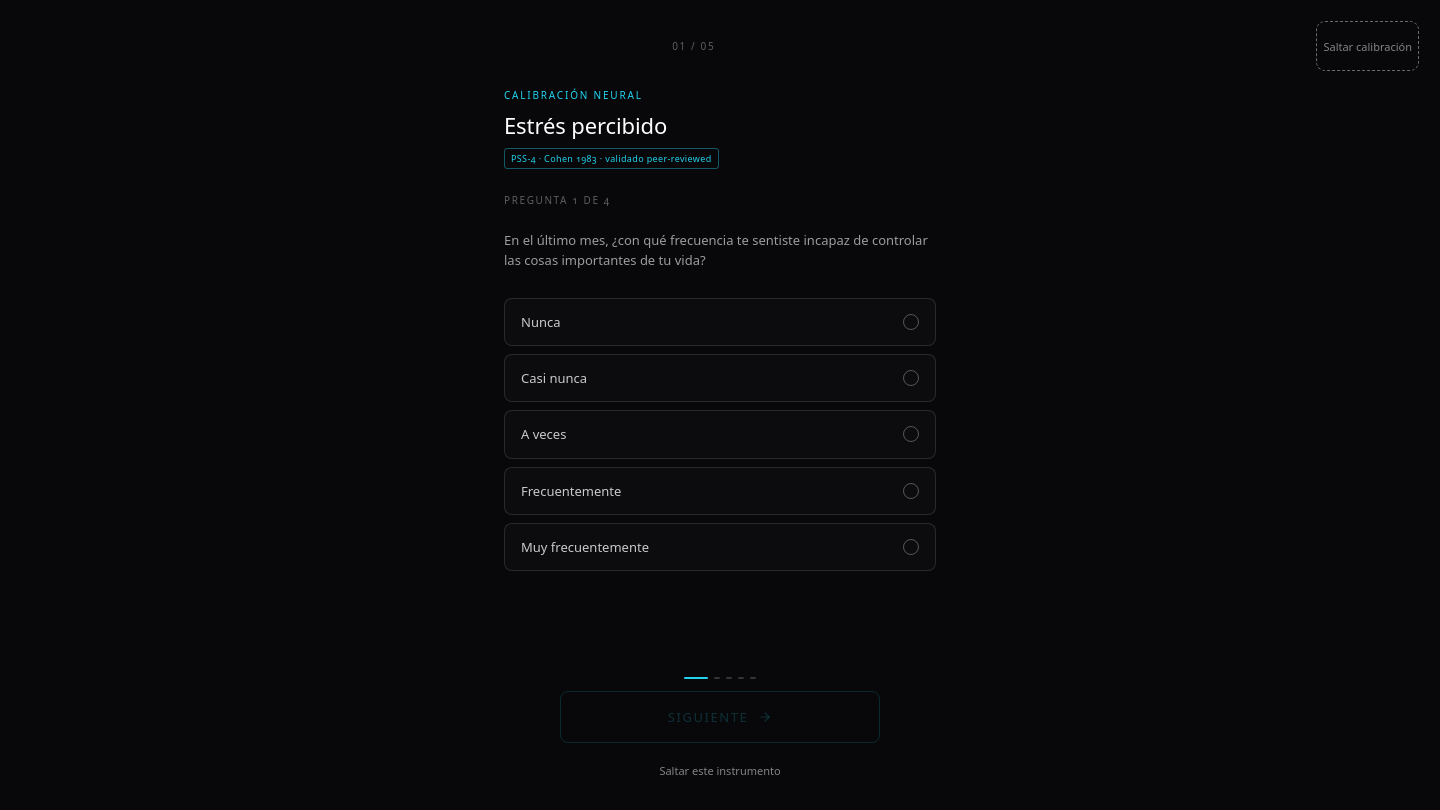
it: NeuralCalibrationV2 — navigation + a11y › back button funciona desde step 2
The image size is (1440, 810).
What coordinates should you click on to do the following:
click the radio button with test id "pss4-opt-0-2"
I would click on:
 (544, 434)
Its box is x1=504 y1=410 x2=936 y2=459.
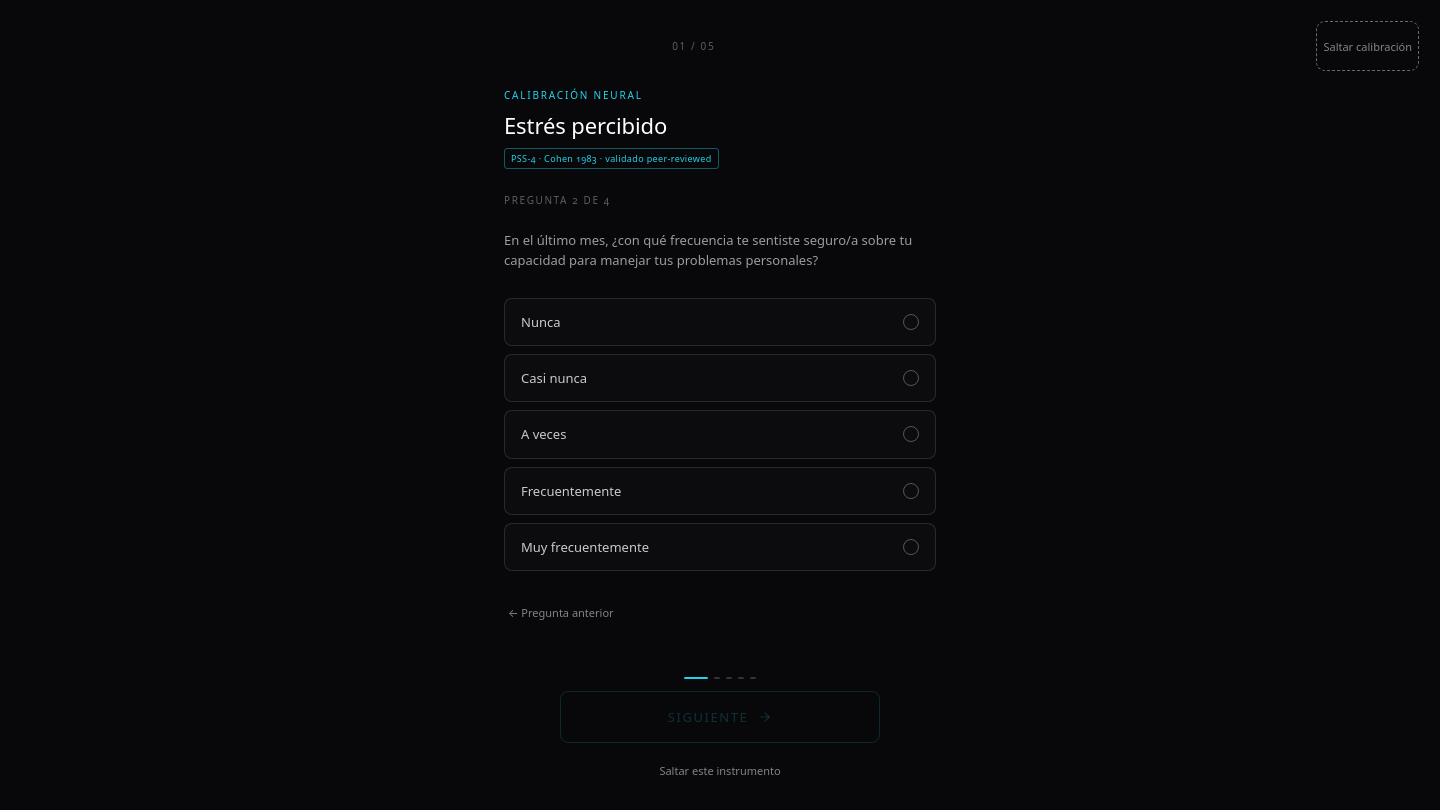
What coordinates should you click on to do the following:
click the radio button labelled "A veces"
I would click on:
 (544, 434)
Its box is x1=504 y1=410 x2=936 y2=459.
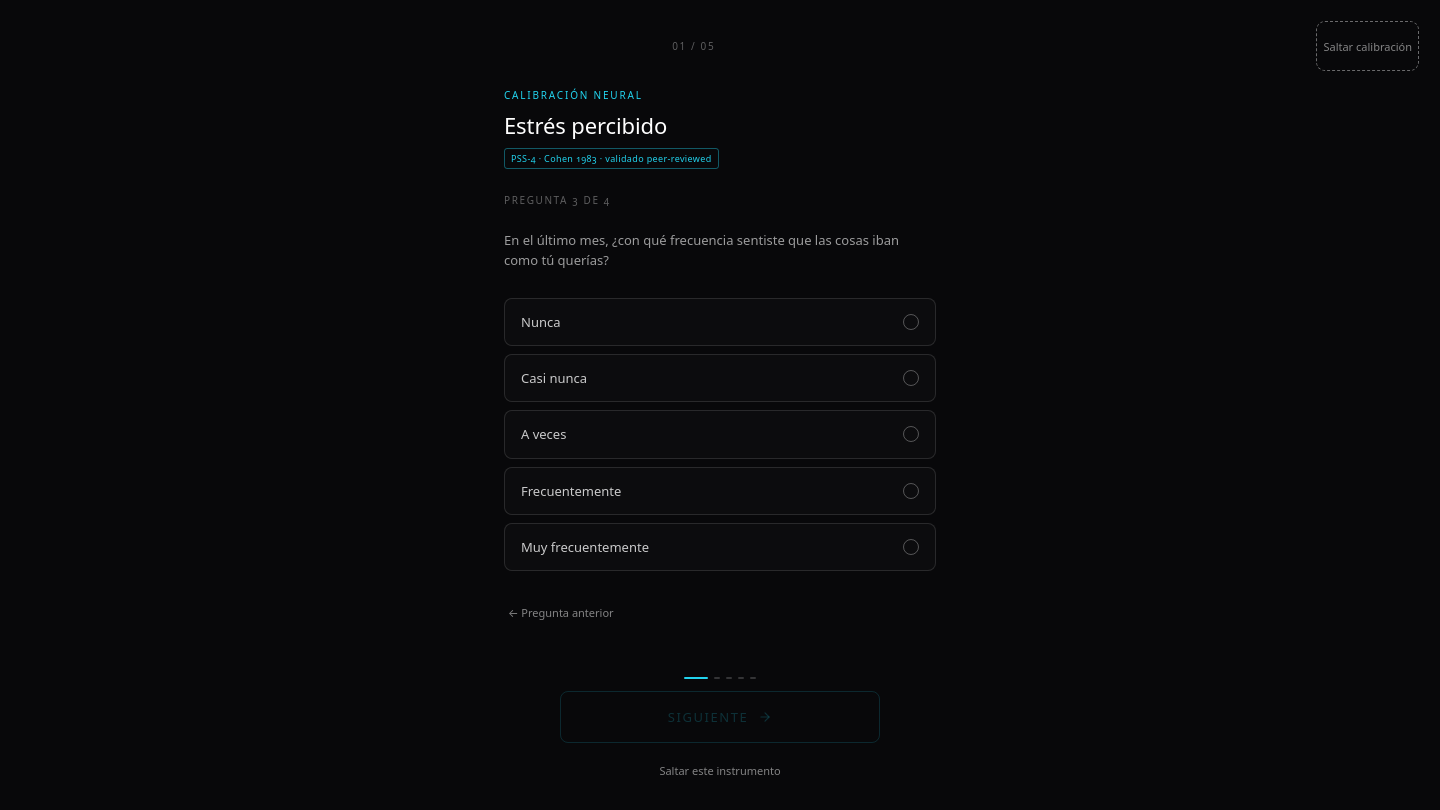
What coordinates should you click on to do the following:
click the radio button labelled "A veces"
I would click on:
 (544, 434)
Its box is x1=504 y1=410 x2=936 y2=459.
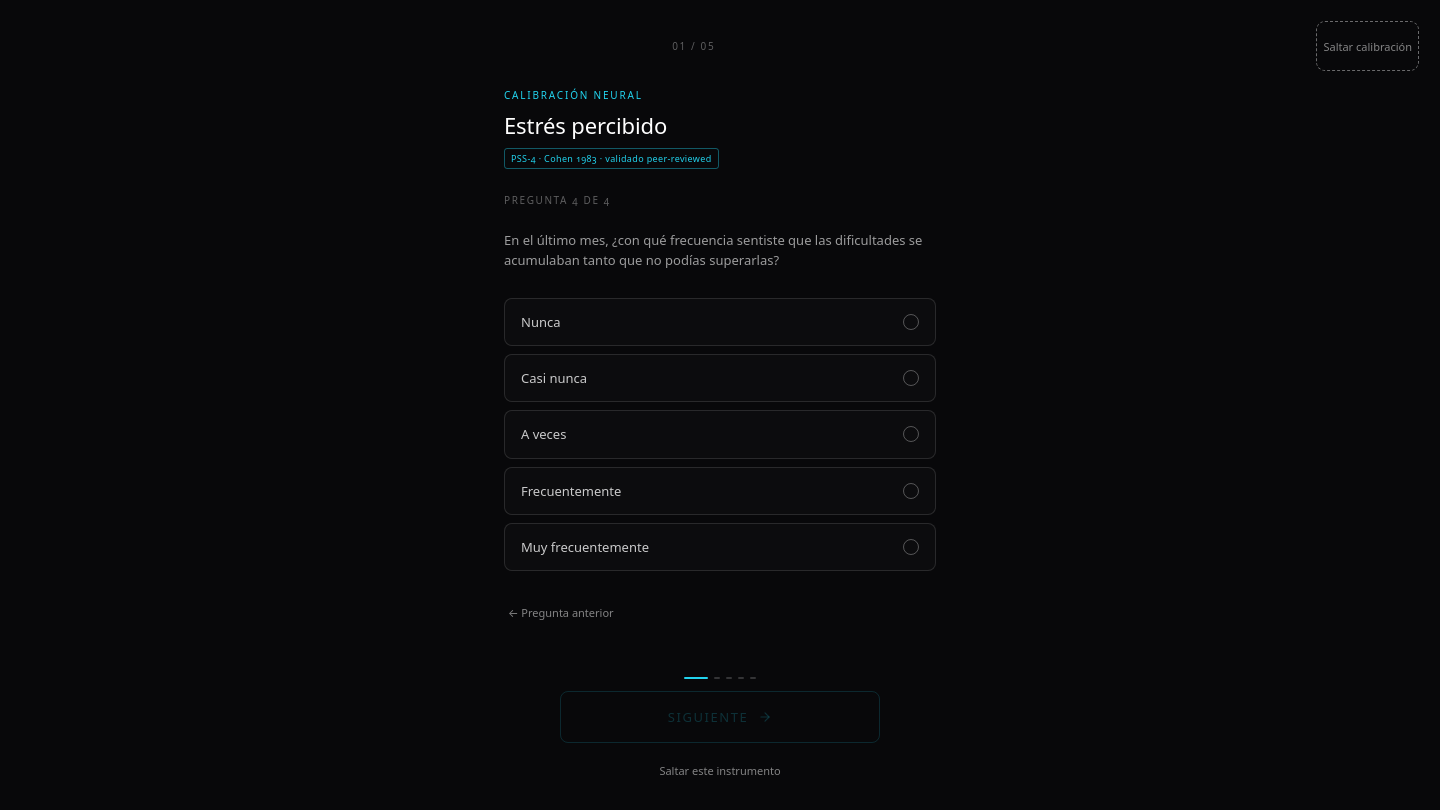
What coordinates should you click on to do the following:
click the radio button labelled "A veces"
I would click on:
 (544, 434)
Its box is x1=504 y1=410 x2=936 y2=459.
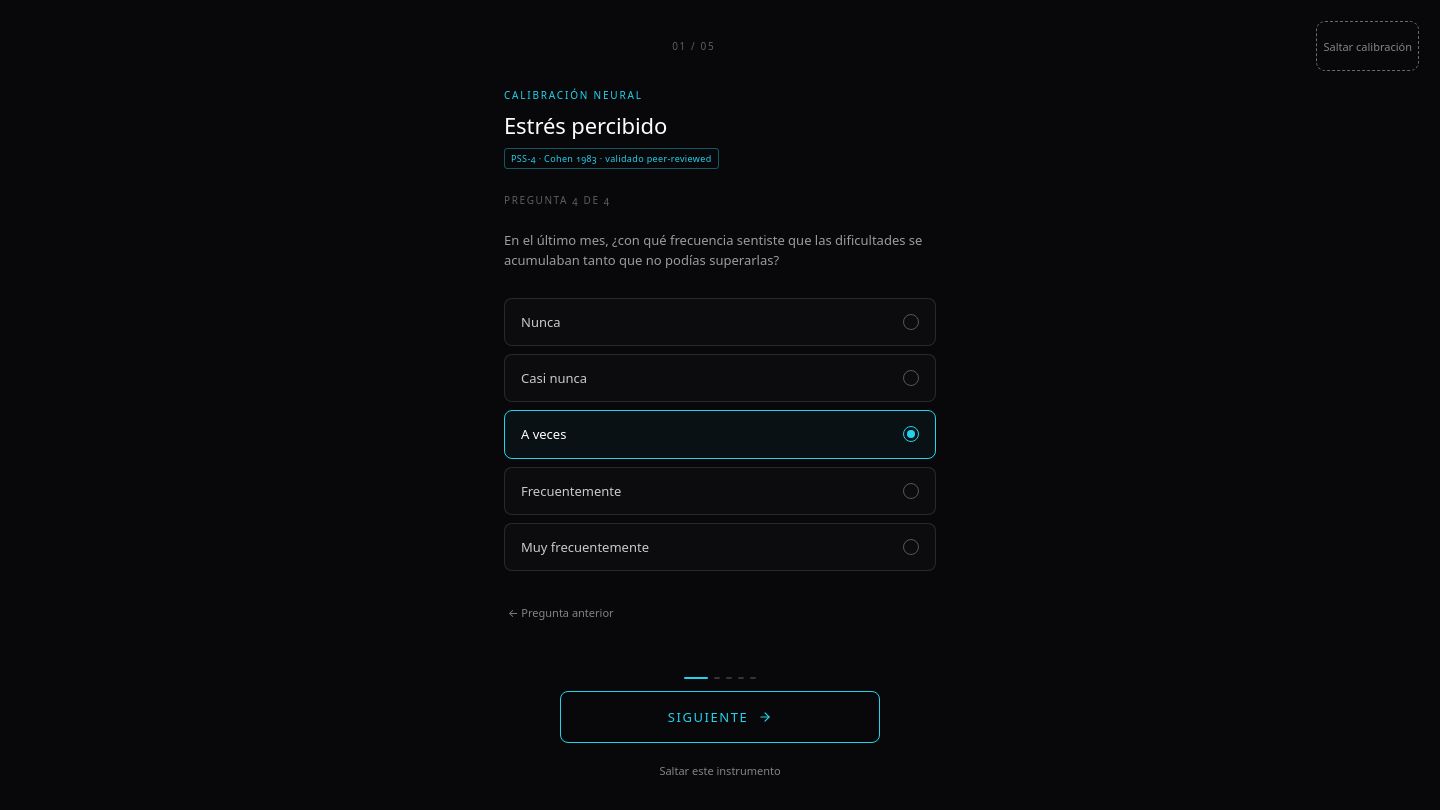
What coordinates should you click on to do the following:
click the button with test id "calibration-cta"
I would click on:
 (720, 717)
Its box is x1=560 y1=691 x2=880 y2=743.
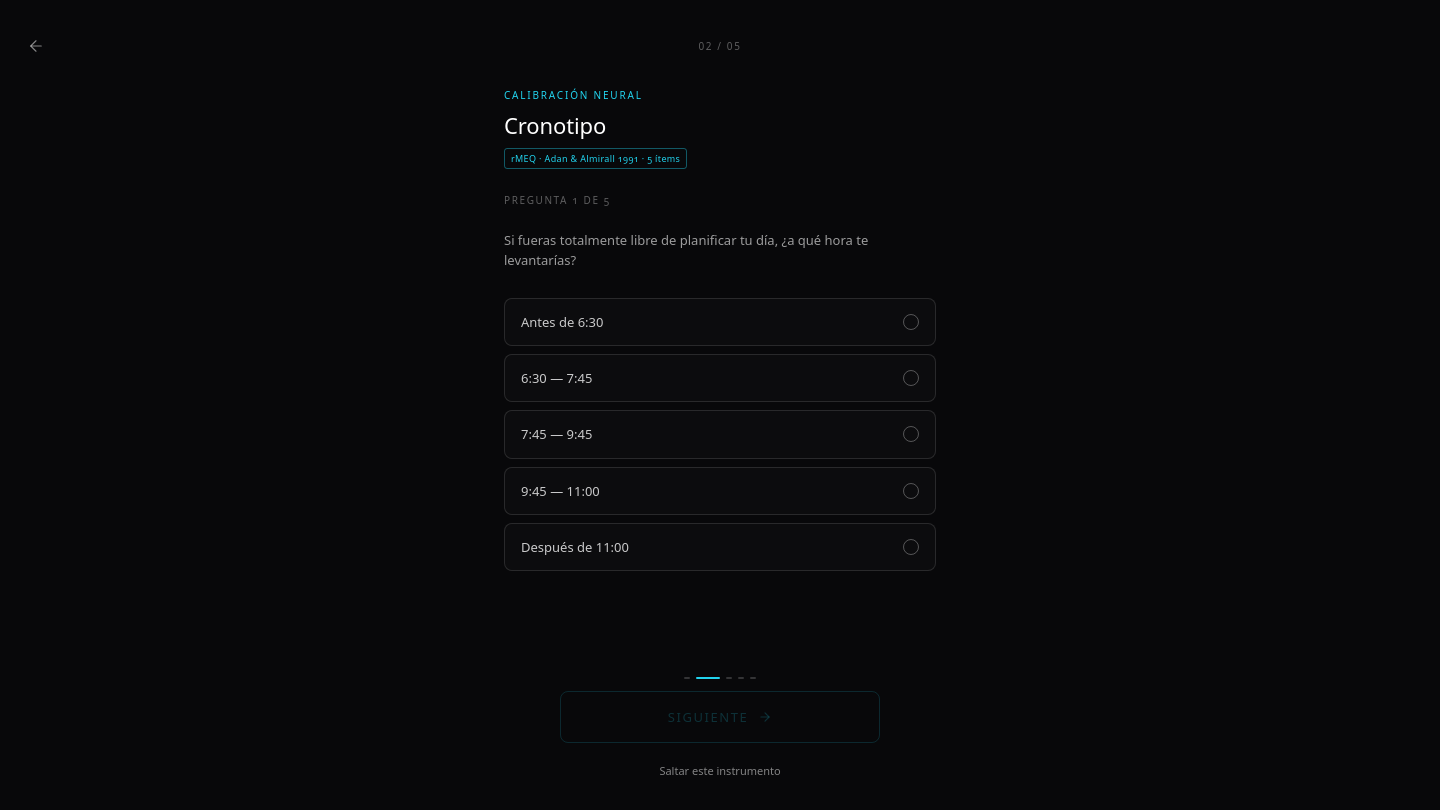
Expected: the text with test id "calibration-step-counter" reads "02 / 05", x1=698 y1=39 x2=742 y2=53
What coordinates should you click on to do the following:
click the button with test id "calibration-back"
I would click on:
 (36, 46)
Its box is x1=14 y1=24 x2=58 y2=68.
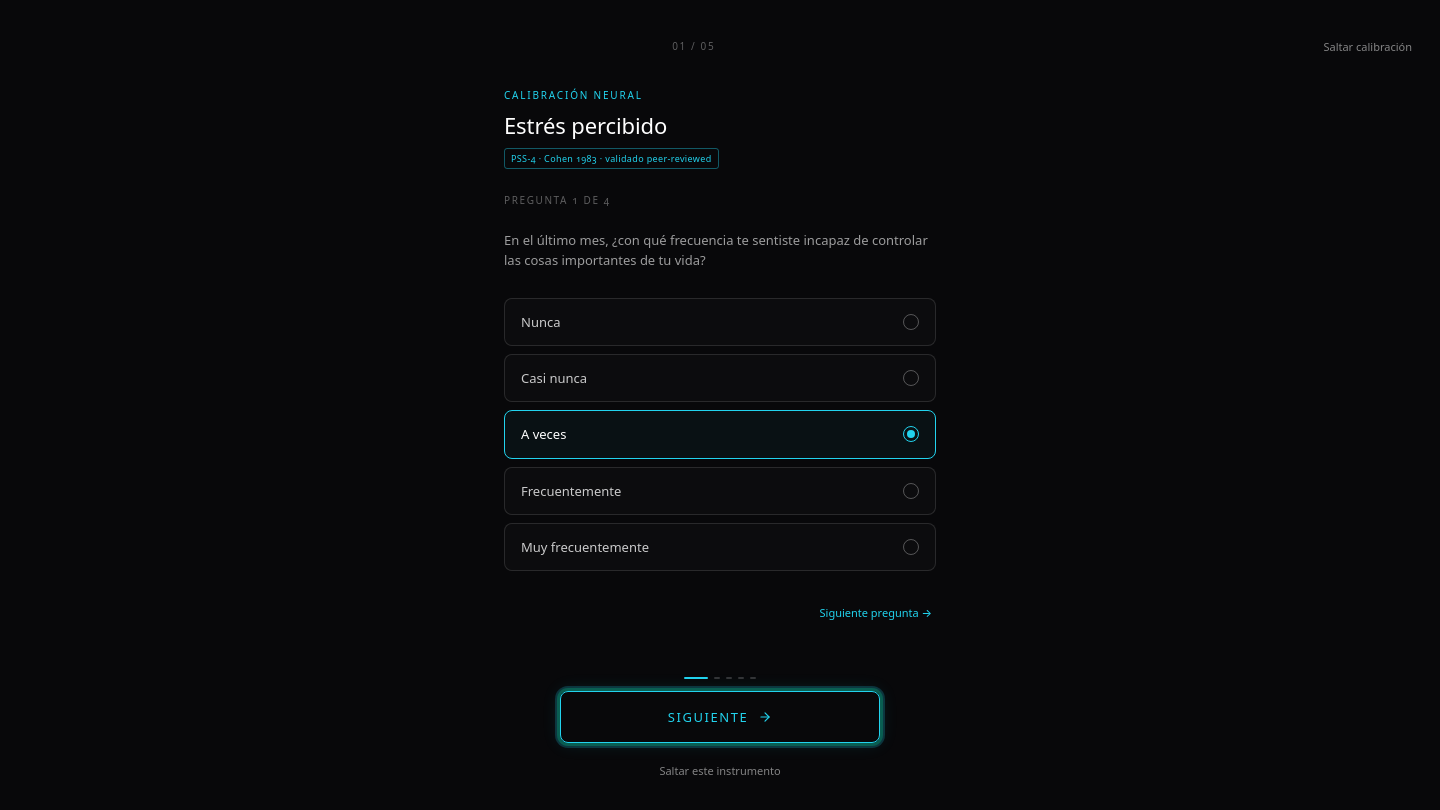
Expected: the text with test id "calibration-step-counter" reads "01 / 05", x1=672 y1=39 x2=715 y2=53
